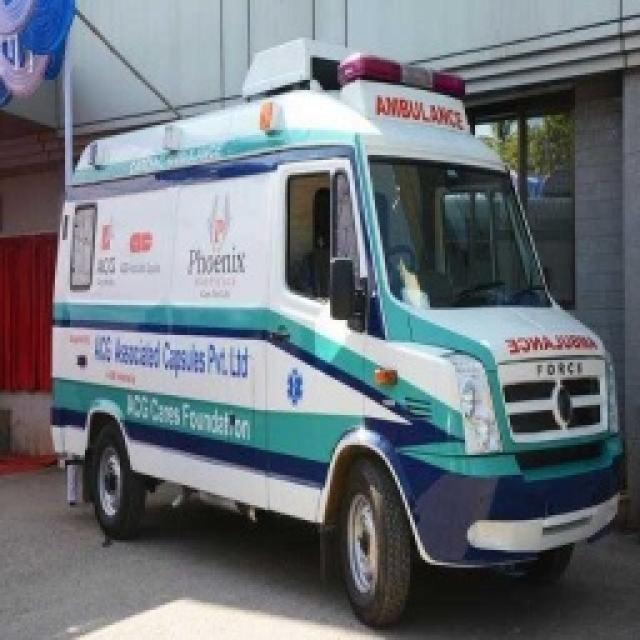ambulance: (50, 35, 620, 635), (55, 590, 390, 640)
